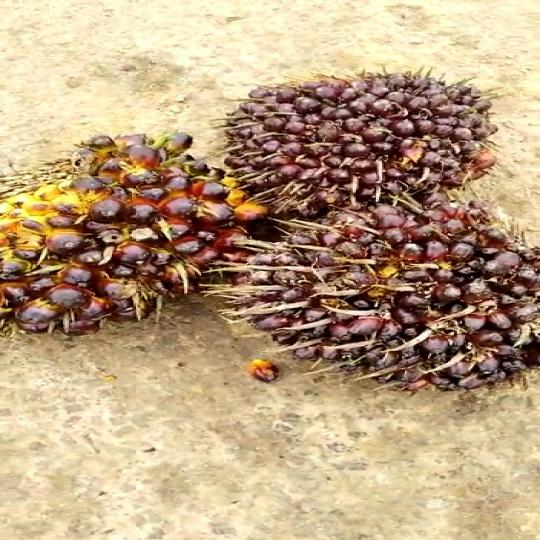kurang masak: (233, 185, 540, 407), (194, 60, 540, 238), (0, 115, 268, 320)
